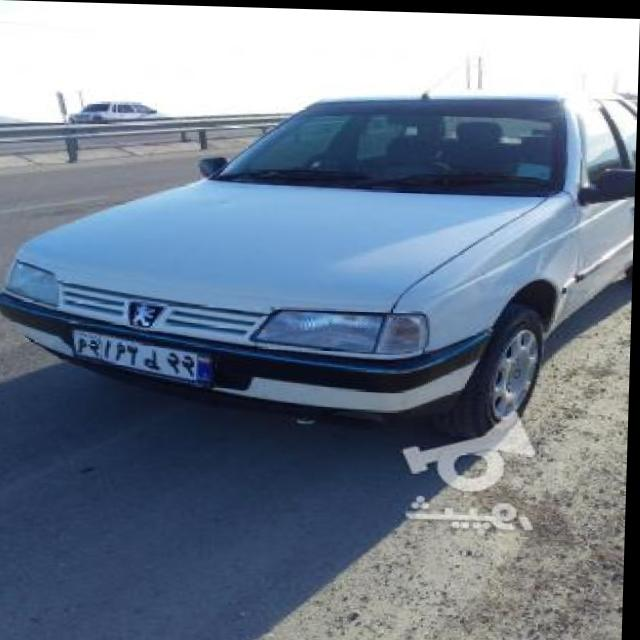licence: (77, 325, 222, 390)
